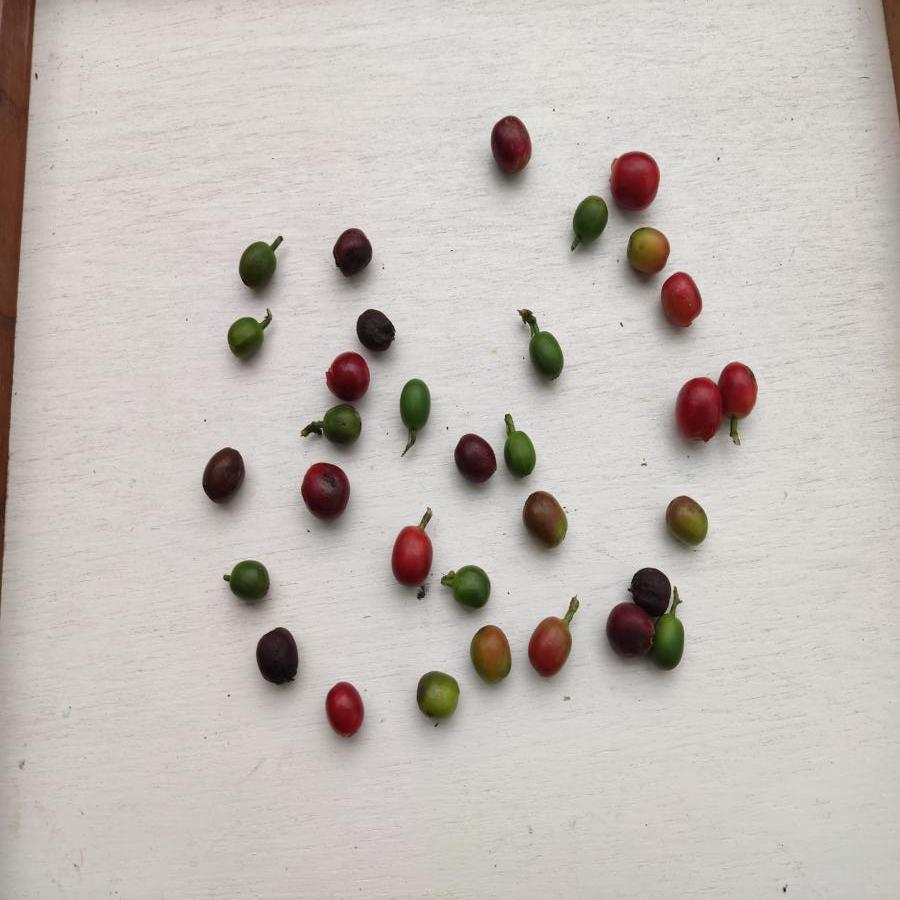Inmaduro: (232, 242, 279, 290), (526, 325, 564, 382), (570, 192, 608, 246), (653, 614, 687, 674), (449, 563, 494, 608), (226, 560, 271, 602), (398, 377, 432, 431), (320, 402, 360, 447), (502, 429, 538, 478), (228, 314, 265, 359)
Maduro: (673, 377, 723, 444), (388, 523, 435, 589), (527, 614, 572, 682), (611, 150, 661, 209), (659, 270, 703, 329), (325, 680, 365, 738), (719, 362, 757, 420)
Pinton: (468, 623, 514, 686), (523, 488, 569, 548), (664, 494, 710, 552), (626, 227, 671, 277), (414, 671, 460, 717)
Sobremaduro: (298, 460, 350, 522), (605, 600, 655, 659), (486, 114, 533, 174), (321, 349, 371, 401), (256, 626, 300, 685), (453, 431, 498, 485), (329, 226, 376, 277), (202, 447, 244, 502), (353, 308, 395, 353), (631, 568, 669, 614)
